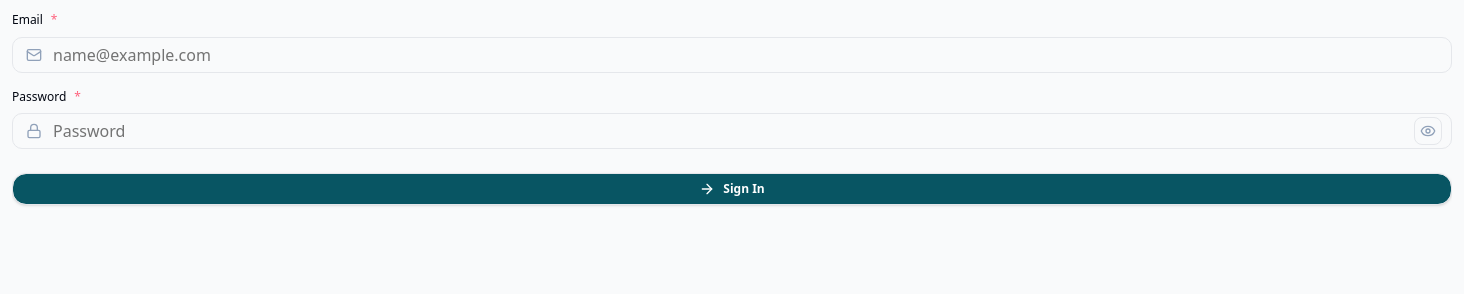
SignInForm › shows the localized invalid-credentials message on 401 and keeps the email
This screenshot has width=1464, height=294.
Step 1. Type "admin@example.com" into the field with placeholder "name@example.com" → coordinates (732, 54), box left=12, top=36, right=1452, bottom=72
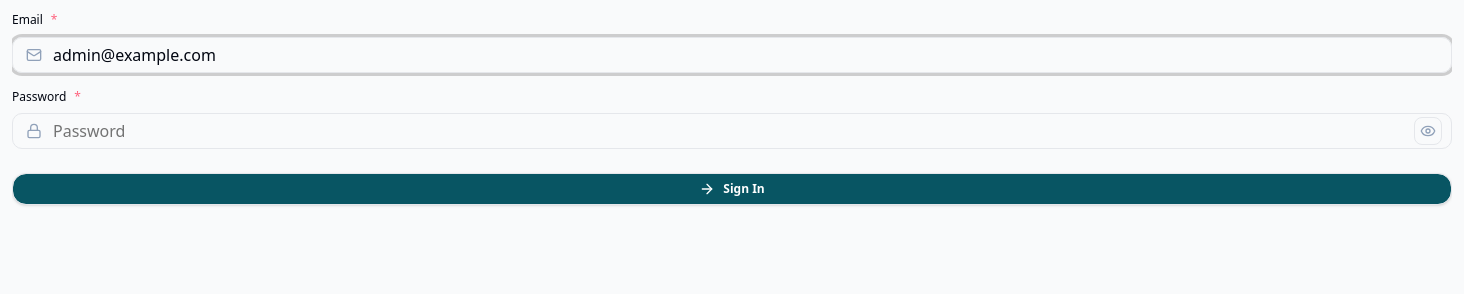
Step 2. Type "password123" into the password field with placeholder "Password" → coordinates (732, 131), box left=12, top=113, right=1452, bottom=149
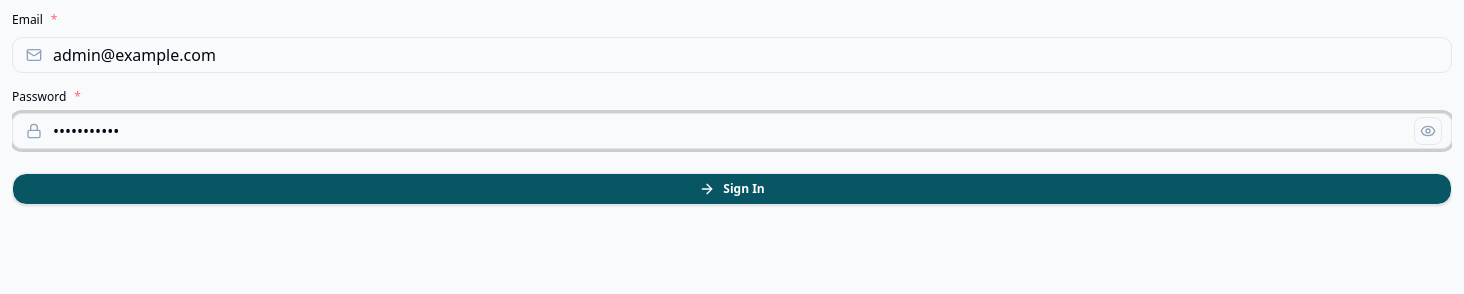
Step 3. Click the button "Sign In" → coordinates (732, 189), box left=12, top=173, right=1452, bottom=205
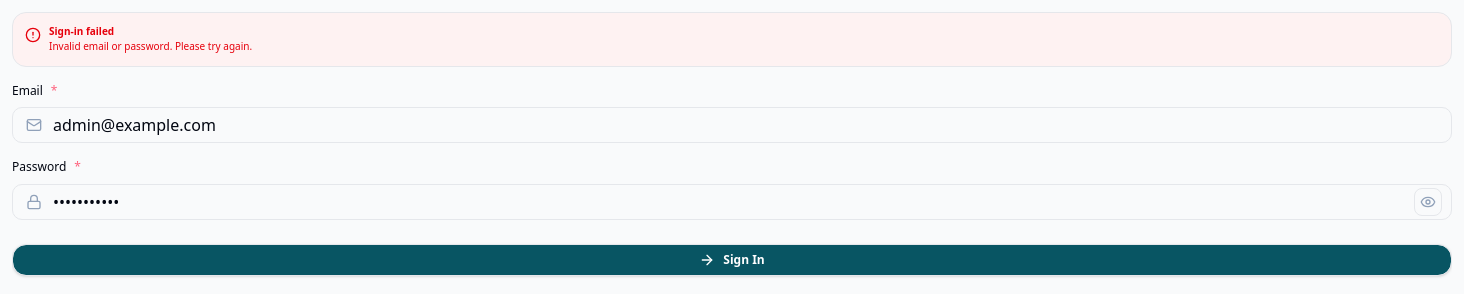
Now the text "Invalid email or password. Please try again." is shown, box left=49, top=39, right=252, bottom=53
